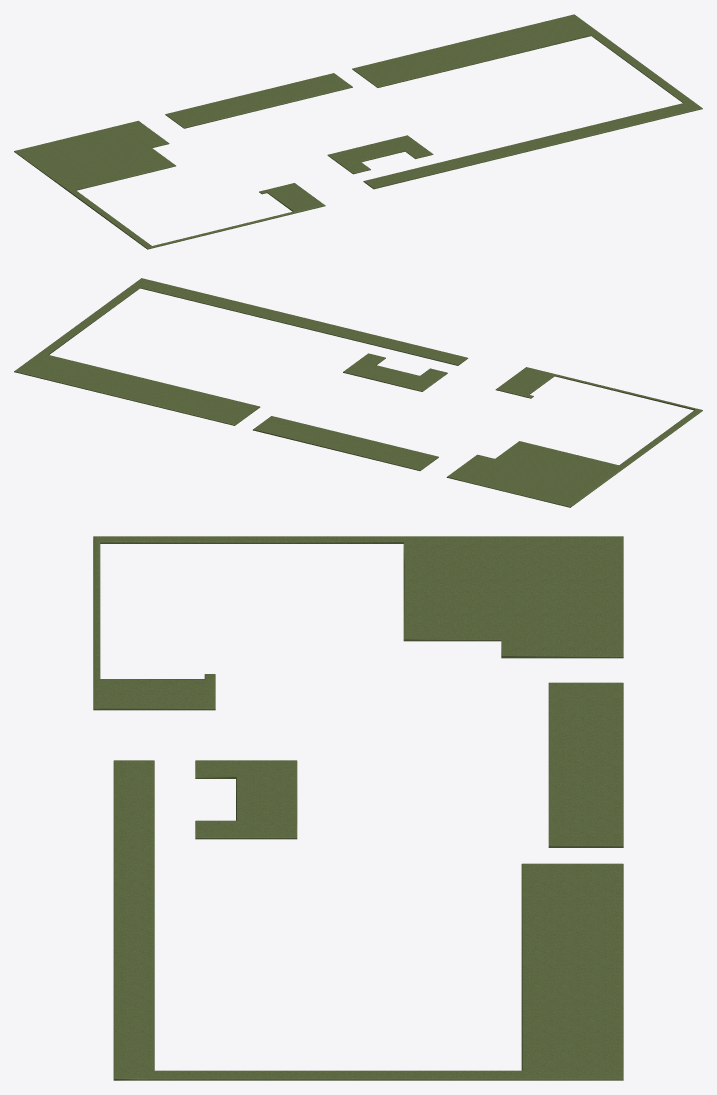
The model's file is envGrass.fbx.
3 views of the same model, one above another, from view 1: azimuth 30°, elevation 25°; view 2: azimuth 150°, elevation 25°; view 3: azimuth 270°, elevation 25° (orthographic). The views are drawn at different scales.
Visible parts, largest first — view 1: envGrass; view 2: envGrass; view 3: envGrass.
Boxes of the visible parts, x1,y1,x2,y2 form: envGrass: (14, 14, 702, 249); envGrass: (14, 278, 702, 507); envGrass: (93, 536, 623, 1080).
Size of the model in its own units: 11413 by 20 by 4709.
1 material, 1 textured.
